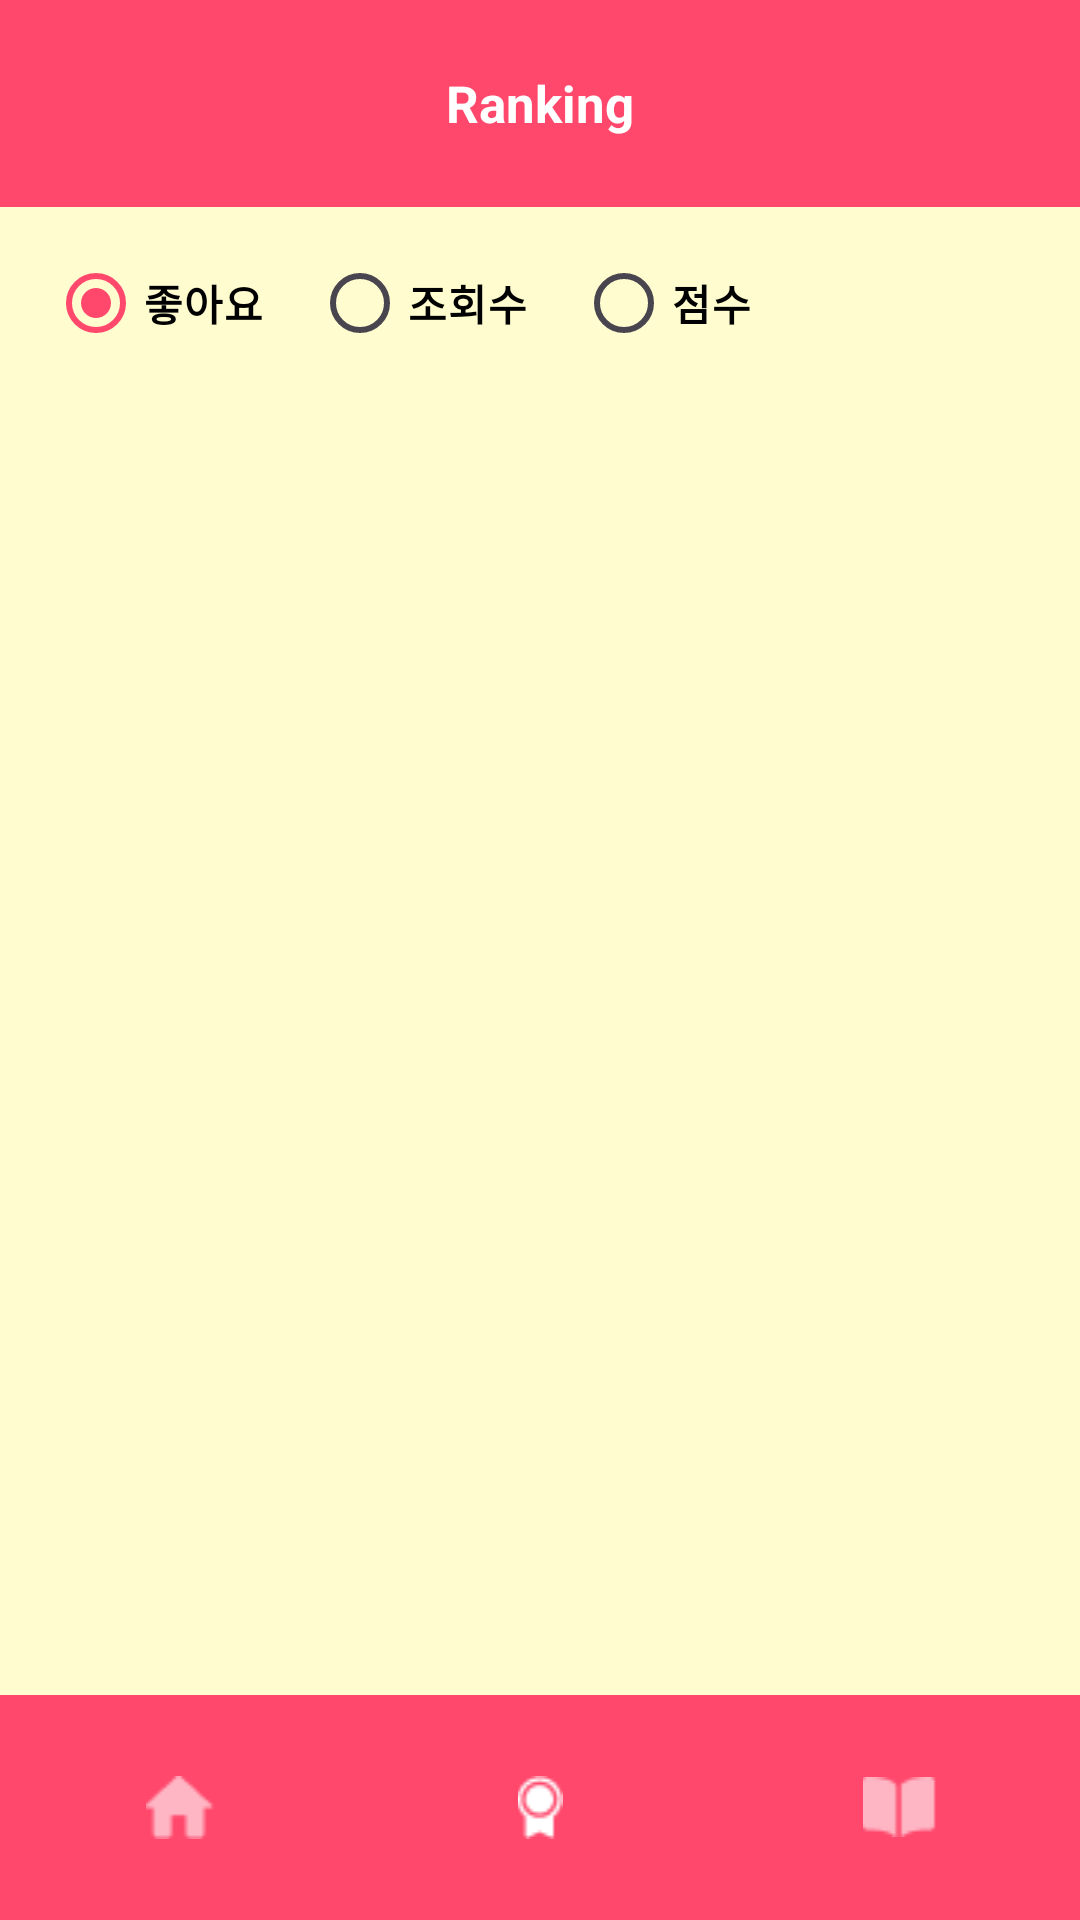

Screen size 1080×1920. Icon name, then its center in pixels as (x,y):
book: (899,1807)
home: (179,1807)
trophy on: (540,1807)
